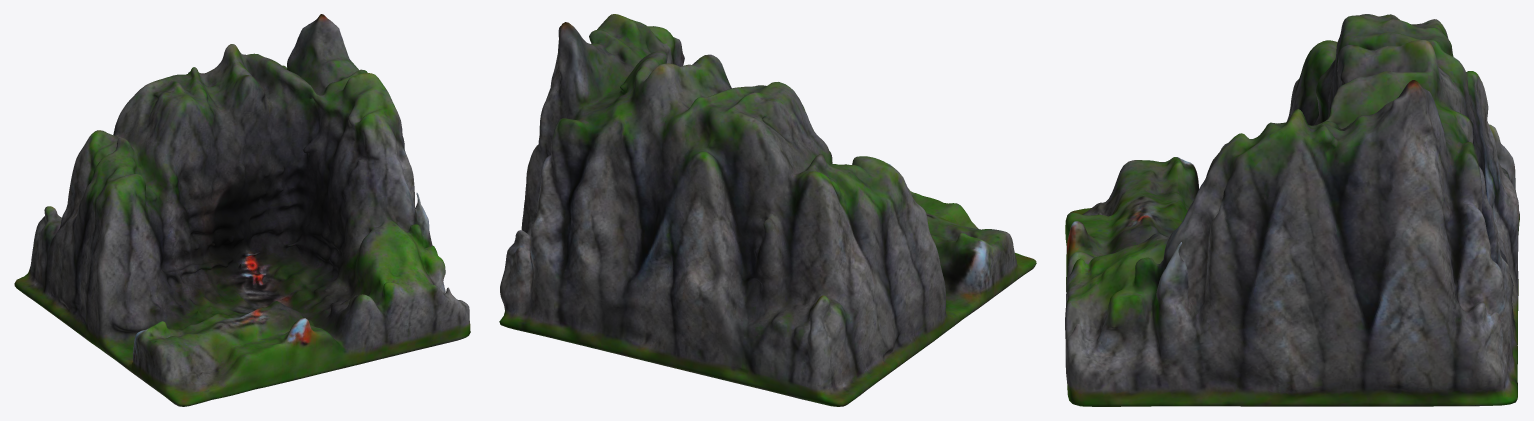
The model's file is 0ccd24226436_Mountain_cave.fbx.
3 views of the same model, side by side, from view 1: azimuth 30°, elevation 25°; view 2: azimuth 150°, elevation 25°; view 3: azimuth 270°, elevation 25° (orthographic). The views are drawn at different scales.
Parts seen in each view (by area): view 1: high_poly; view 2: high_poly; view 3: high_poly.
Part boxes in pixels (x1,y1,x2,y2): high_poly: (14,14,470,406); high_poly: (499,14,1036,406); high_poly: (1065,14,1519,406).
Bounding box in the file's own units: 100 × 74.69 × 98.3.
